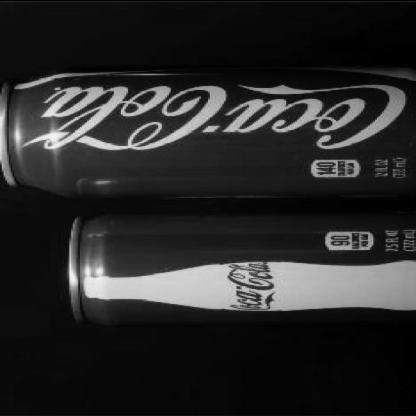alumunium_can: (1, 63, 415, 200), (67, 209, 416, 327)
